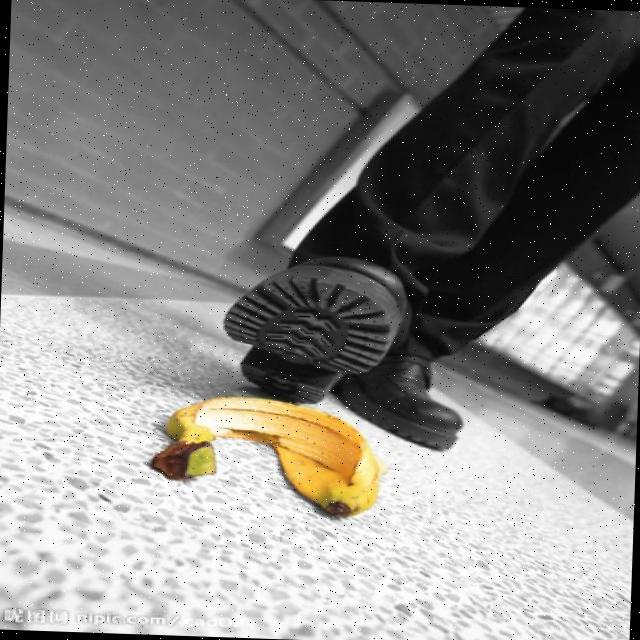banana-peel: (154, 392, 383, 518)
